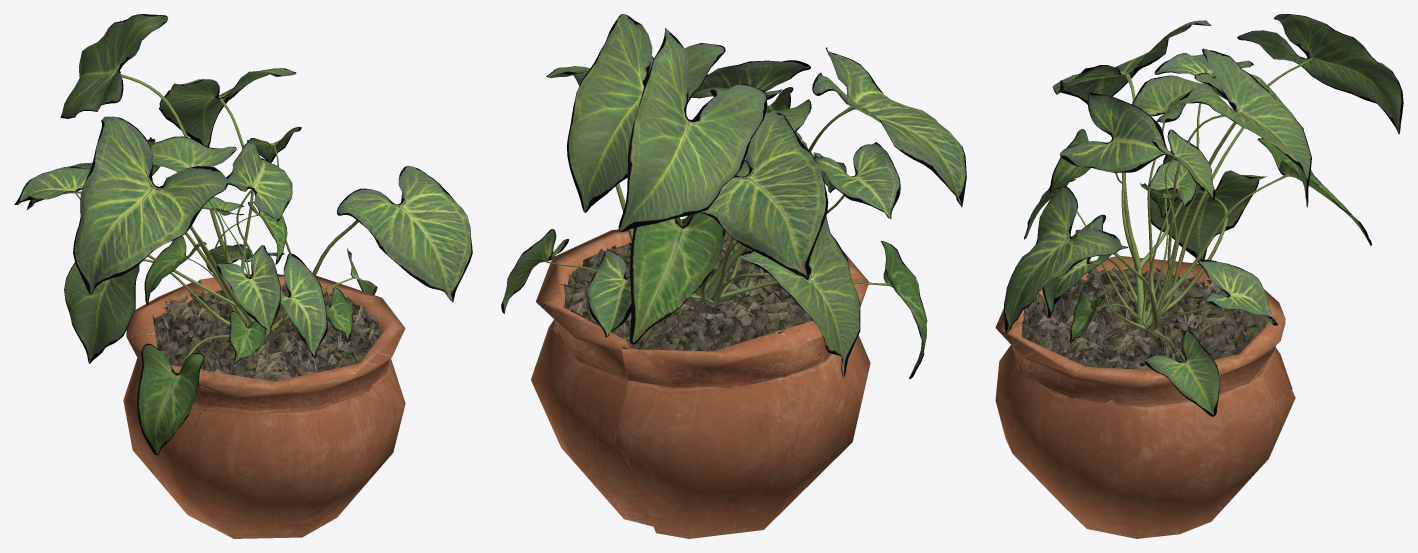
File: potted-02.glb
3 views of the same model, side by side, from view 1: azimuth 30°, elevation 25°; view 2: azimuth 150°, elevation 25°; view 3: azimuth 270°, elevation 25° (orthographic). The views are drawn at different scales.
Visible parts, largest first — view 1: potted_plant_02_leaves, potted_plant_02_pot, potted_plant_02_dirt; view 2: potted_plant_02_leaves, potted_plant_02_pot, potted_plant_02_dirt; view 3: potted_plant_02_leaves, potted_plant_02_pot, potted_plant_02_dirt.
Part boxes in pixels (x1=…): potted_plant_02_leaves: x1=14, y1=14, x2=472, y2=455; potted_plant_02_pot: x1=123, y1=274, x2=405, y2=538; potted_plant_02_dirt: x1=150, y1=283, x2=382, y2=395; potted_plant_02_leaves: x1=501, y1=14, x2=966, y2=378; potted_plant_02_pot: x1=531, y1=228, x2=870, y2=538; potted_plant_02_dirt: x1=561, y1=234, x2=812, y2=351; potted_plant_02_leaves: x1=1004, y1=14, x2=1403, y2=416; potted_plant_02_pot: x1=995, y1=256, x2=1295, y2=538; potted_plant_02_dirt: x1=1021, y1=267, x2=1269, y2=375.
Size of the model in its own units: 0.7012 by 0.8425 by 0.6571.
Materials: 2 (2 with a texture image).
